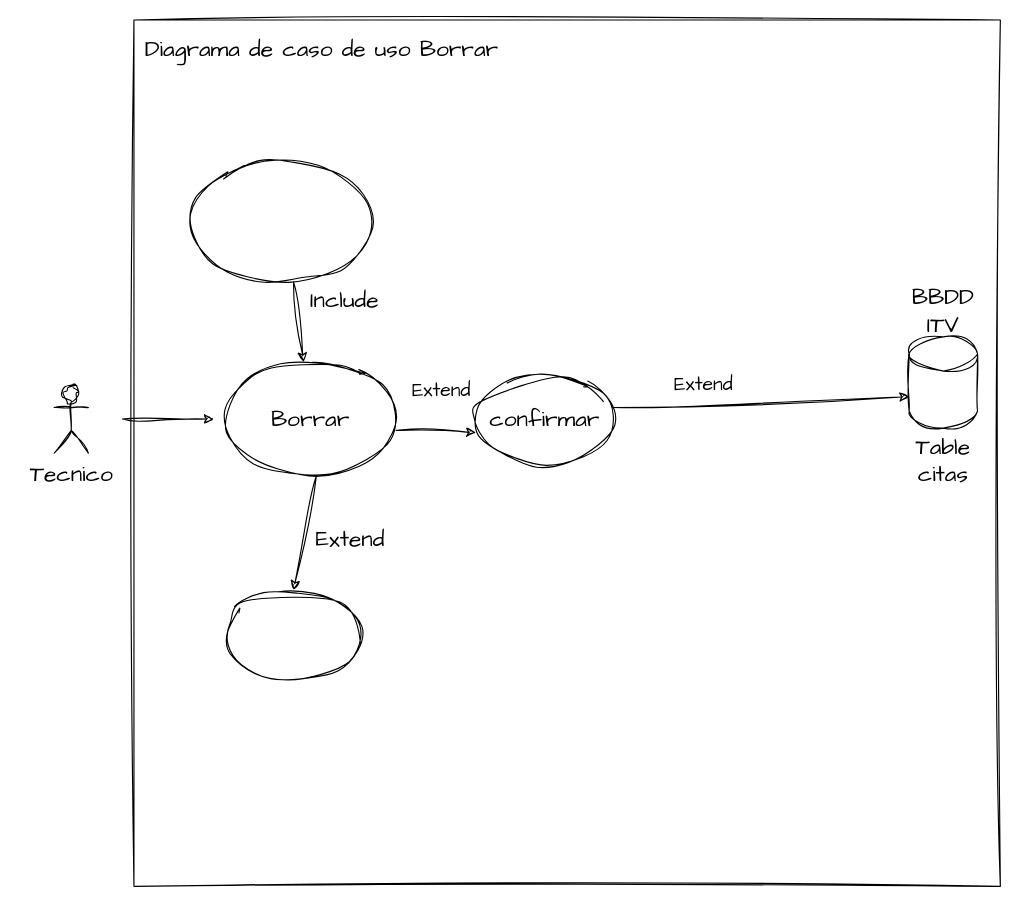
This 1020x906 diagram has some shape labels left out. The shapes that lost their labels are listed below. From the top down, each one's centre as x and y in pixels, then its label:
At point 281,221: "Seleccionar".
At point 293,635: "Volver".
